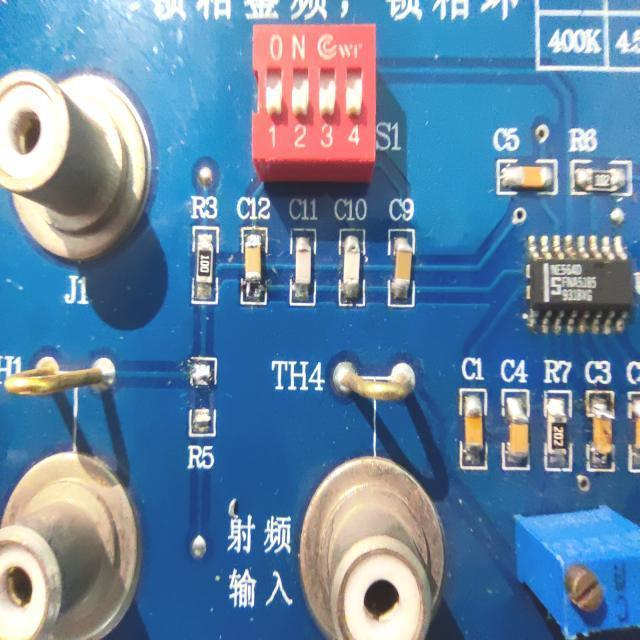Missing component: (182, 352, 221, 478)
